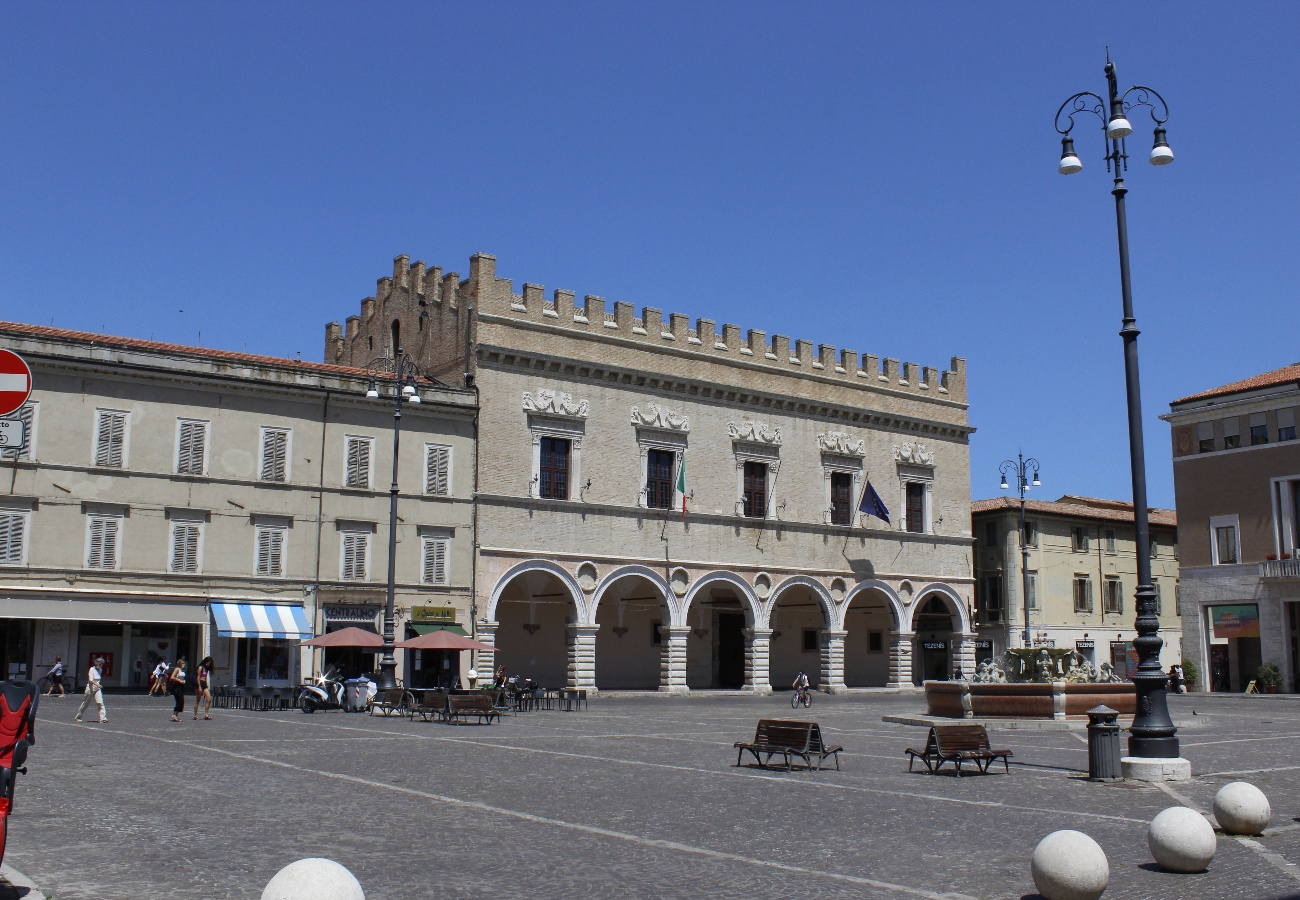Fontana Piazza del Popolo: (1010, 644, 1080, 684)
Palazzo Ducale: (471, 288, 969, 698)
